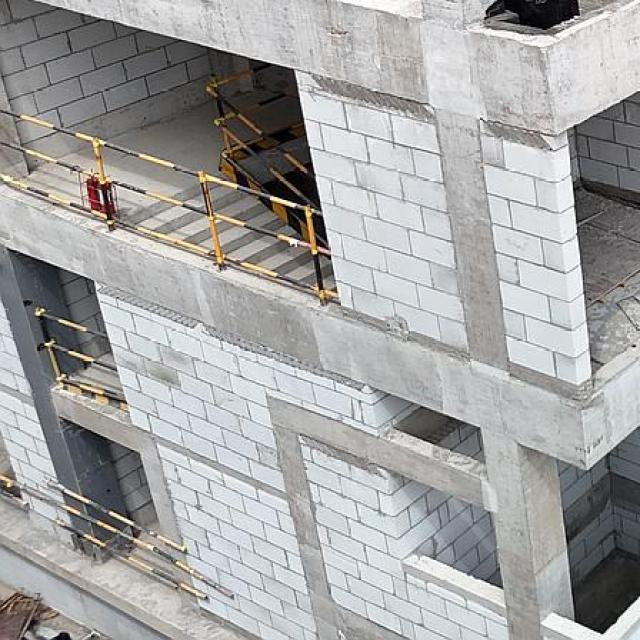edge_guardrail: (0, 107, 340, 307), (0, 473, 234, 602), (35, 308, 128, 406)
